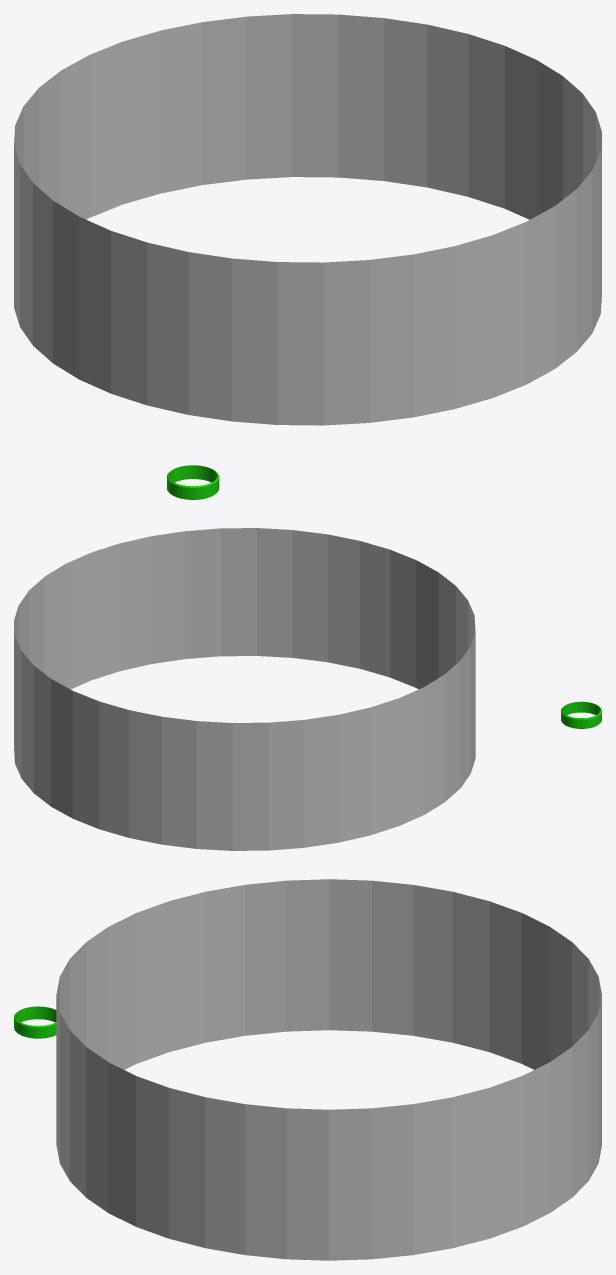
The model's file is jaco_small_ring_cover.dae.
The picture shows the model from 3 angles, top to bottom: view 1: azimuth 30°, elevation 25°; view 2: azimuth 150°, elevation 25°; view 3: azimuth 270°, elevation 25°; orthographic projection. The views are drawn at different scales.
Visible parts, largest first — view 1: SketchUp, Component_2 (×2); view 2: SketchUp, Component_2; view 3: SketchUp, Component_2 (×2).
Boxes of the visible parts, <box> form: SketchUp: <box>14,14,601,425</box>; Component_2 (×2): <box>167,465,219,499</box>; SketchUp: <box>14,528,475,850</box>; Component_2: <box>561,701,601,728</box>; SketchUp: <box>56,879,601,1260</box>; Component_2 (×2): <box>14,1006,56,1038</box>.
Bounding box in the file's own units: 1280 × 1280 × 378.
Materials: 2 (1 with a texture image).
